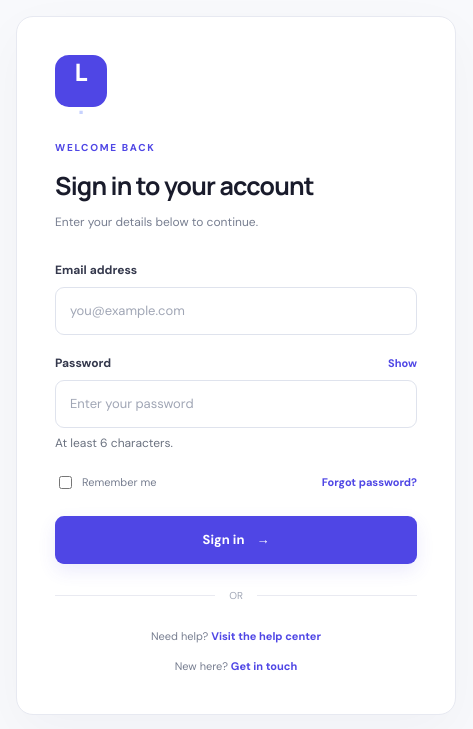
it: Login page › ignores a repeat submission while one is pending
The image size is (473, 729).
In the field labelled "Email address": (236, 311) [55,287,417,335], type "me@example.com"
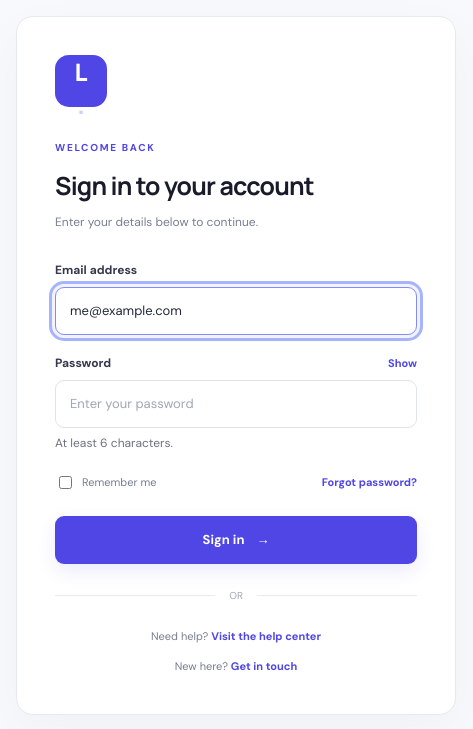
In the password field labelled "Password": (236, 404) [55,380,417,428], type "secret123"
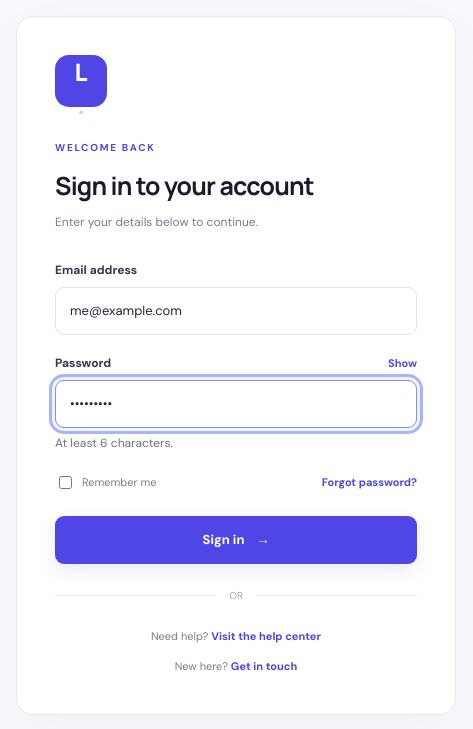
Click the checkbox labelled "Remember me": (66, 482) [59,476,72,489]
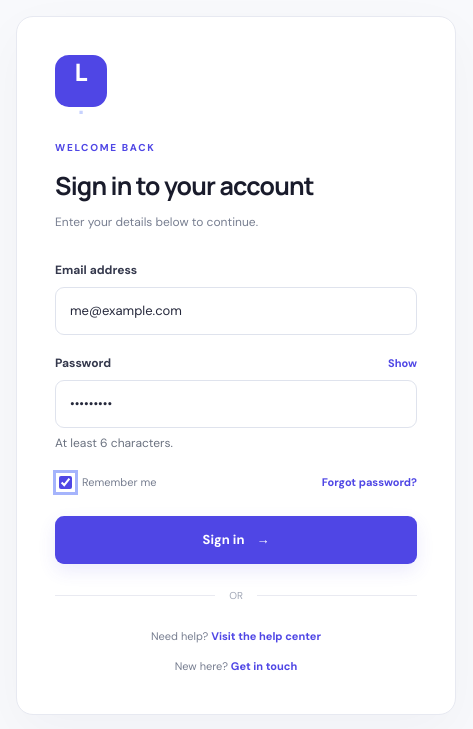
Click the button "Sign in →": (236, 540) [55,516,417,564]
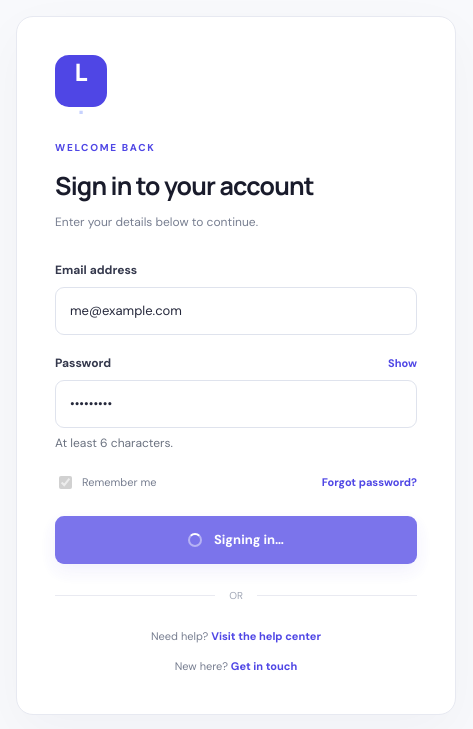
Submit the form named "sign in form", box [55,262,417,564]
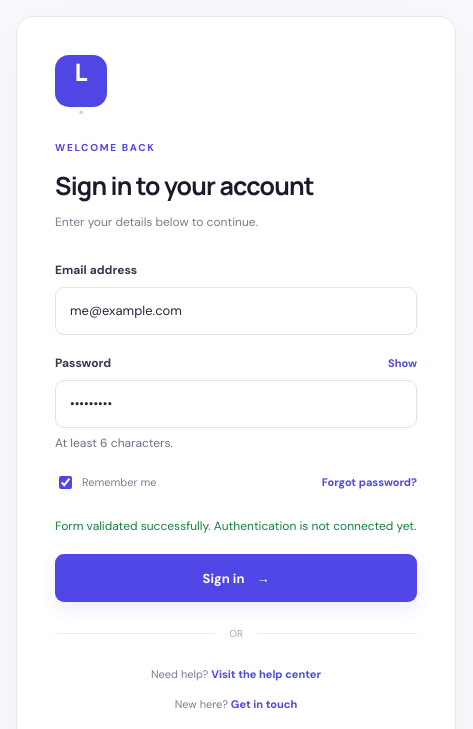
Expected: the text "Form validated successfully. Authentication is not connected yet." is shown, [55,516,417,536]
